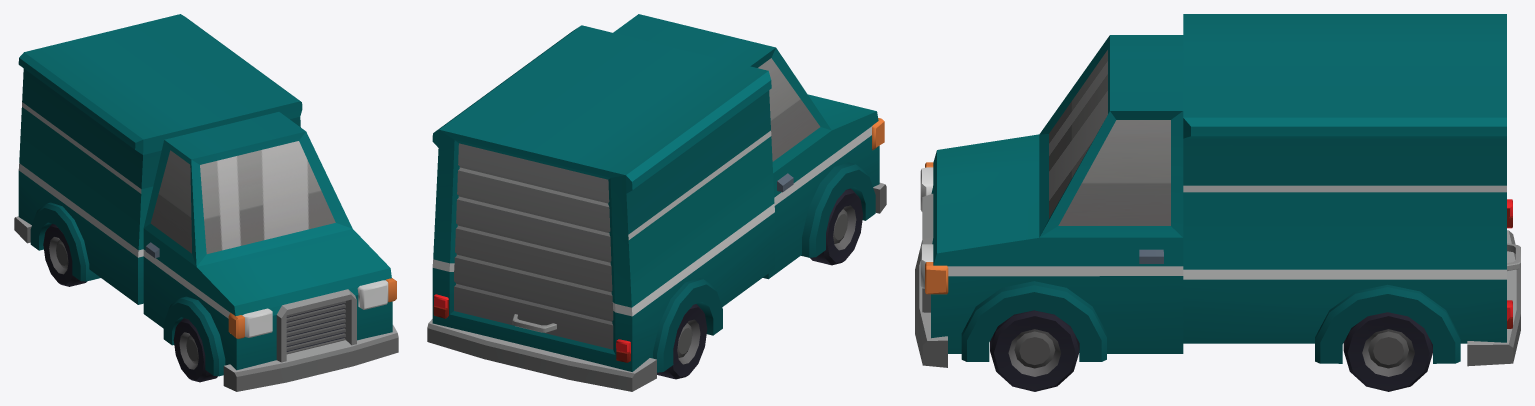
File: PostCar_8.glb
The picture shows the model from 3 angles, left to right: view 1: azimuth 30°, elevation 25°; view 2: azimuth 150°, elevation 25°; view 3: azimuth 270°, elevation 25°; orthographic projection. The views are drawn at different scales.
Visible parts, largest first — view 1: PostCar_8, Wheel_FR, Wheel_BR; view 2: PostCar_8, Wheel_FR, Wheel_BR; view 3: PostCar_8, Wheel_FL, Wheel_BL.
Part boxes in pixels (bbox=[...]): PostCar_8: bbox=[14, 14, 398, 391]; Wheel_FR: bbox=[173, 318, 217, 382]; Wheel_BR: bbox=[43, 224, 86, 286]; PostCar_8: bbox=[427, 14, 886, 391]; Wheel_FR: bbox=[810, 188, 863, 265]; Wheel_BR: bbox=[657, 304, 707, 379]; PostCar_8: bbox=[915, 14, 1520, 367]; Wheel_FL: bbox=[990, 310, 1079, 391]; Wheel_BL: bbox=[1343, 312, 1432, 391].
Size of the model in its own units: 1.18 by 1.24 by 2.51.
Materials: 5 (5 with a texture image).
